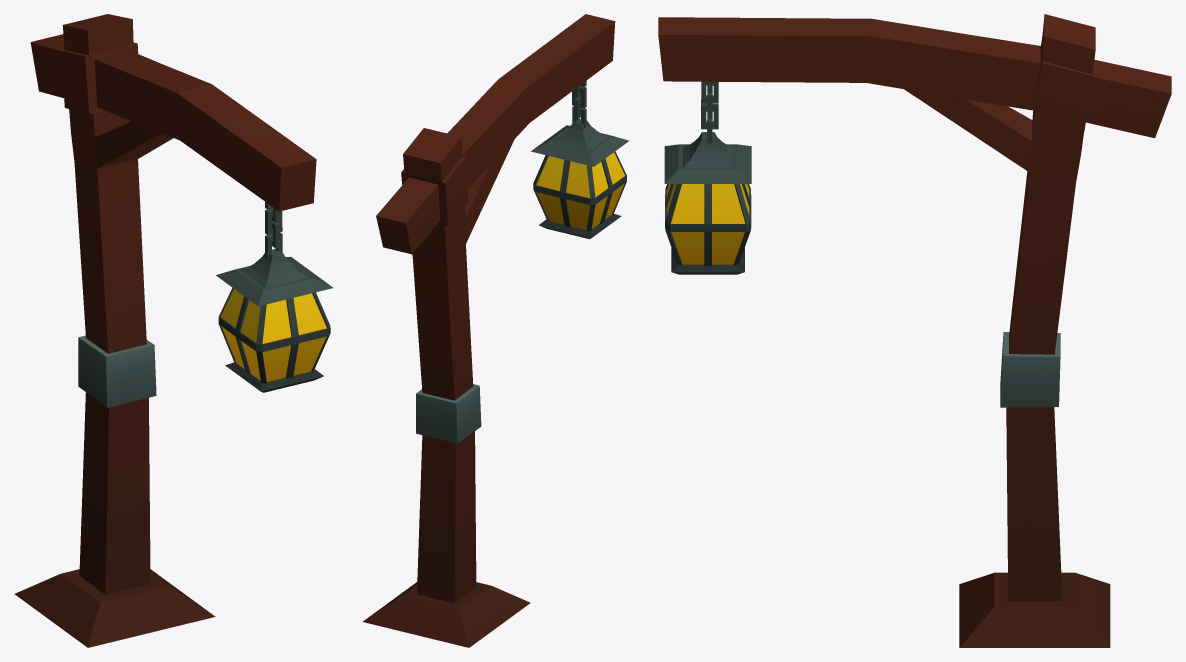
File: FBX_StreetLamp.fbx
3 views of the same model, side by side, from view 1: azimuth 30°, elevation 25°; view 2: azimuth 150°, elevation 25°; view 3: azimuth 270°, elevation 25° (orthographic). The views are drawn at different scales.
Parts seen in each view (by area): view 1: street lamp; view 2: street lamp; view 3: street lamp.
Part boxes in pixels (box(x1,y1,x2,y2)): street lamp: box(14, 14, 333, 647); street lamp: box(363, 14, 629, 647); street lamp: box(658, 14, 1171, 647).
Size of the model in its own units: 3.19 by 13.77 by 10.84.
